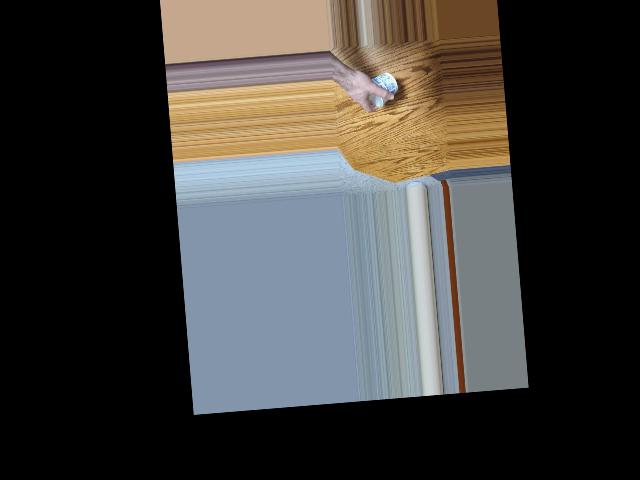cotage: (361, 68, 395, 108)
